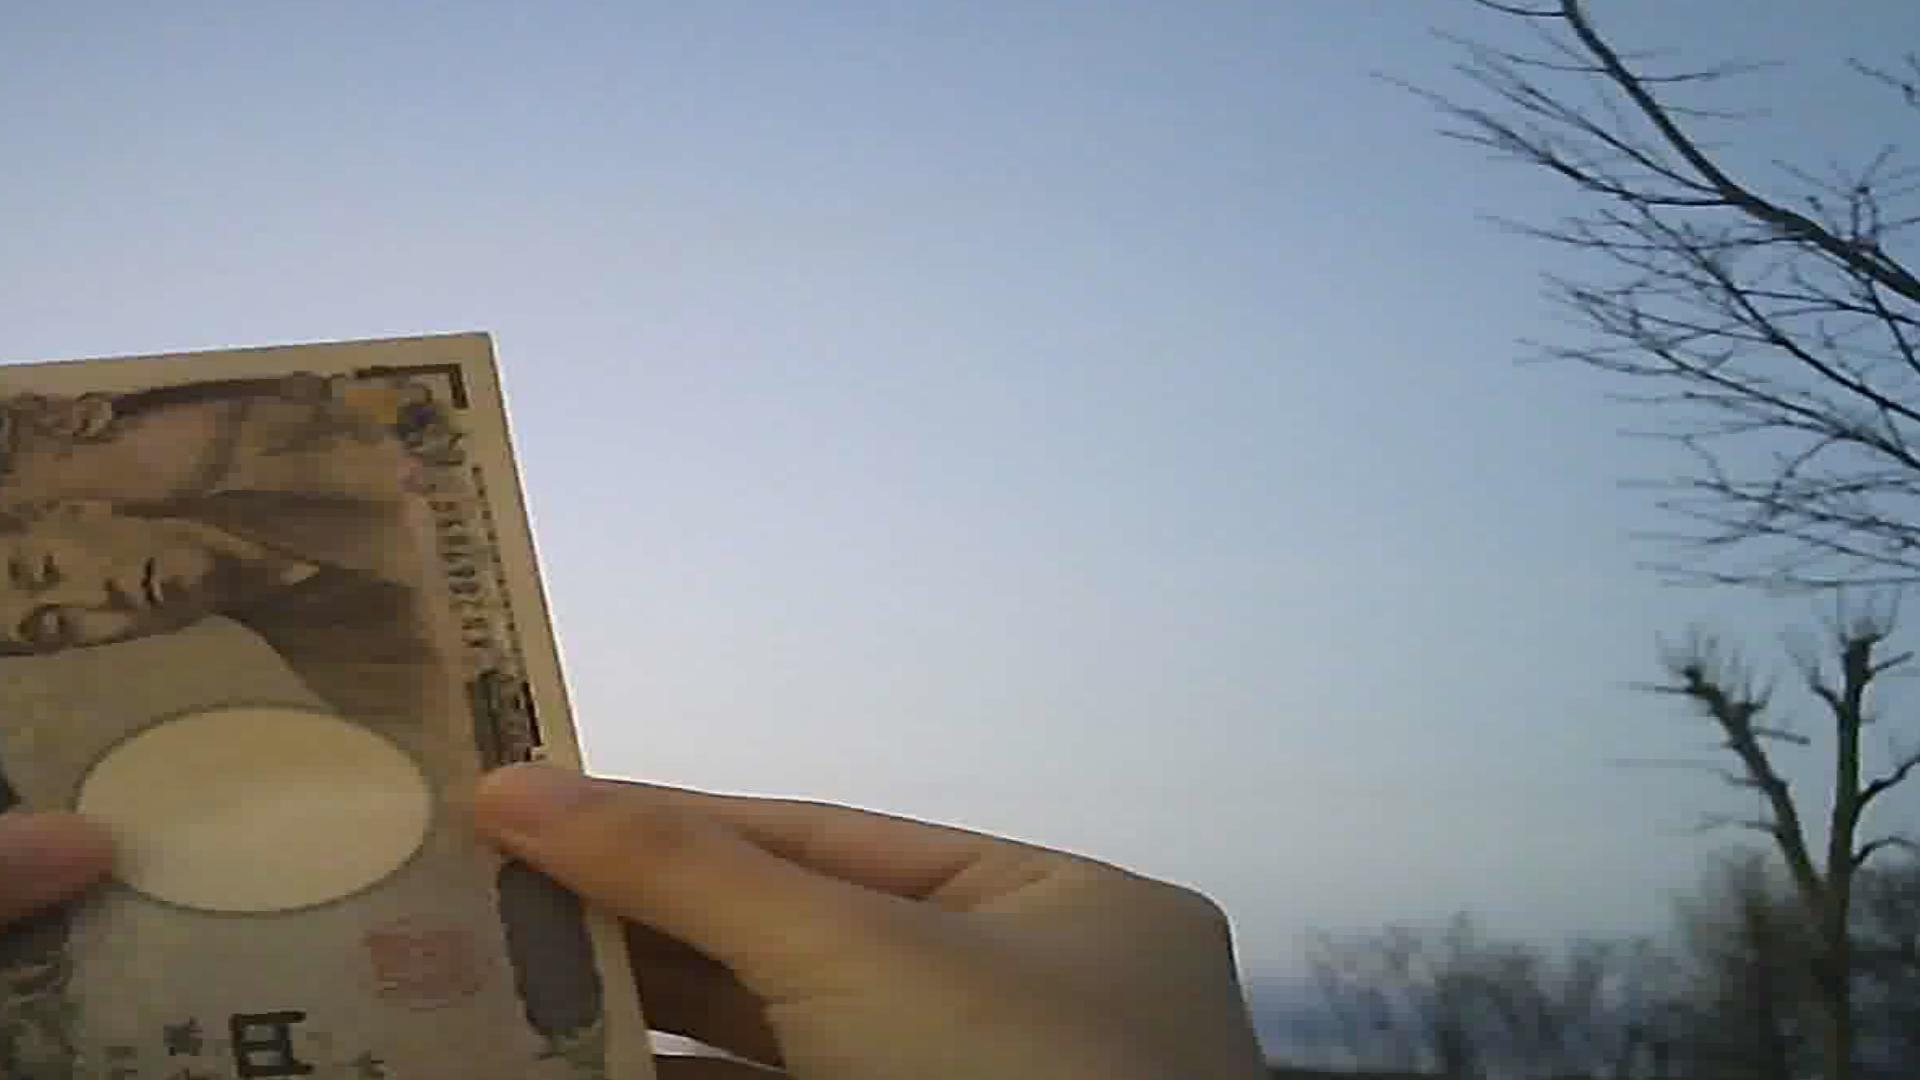10,000 Yen: (1, 291, 645, 1079)
